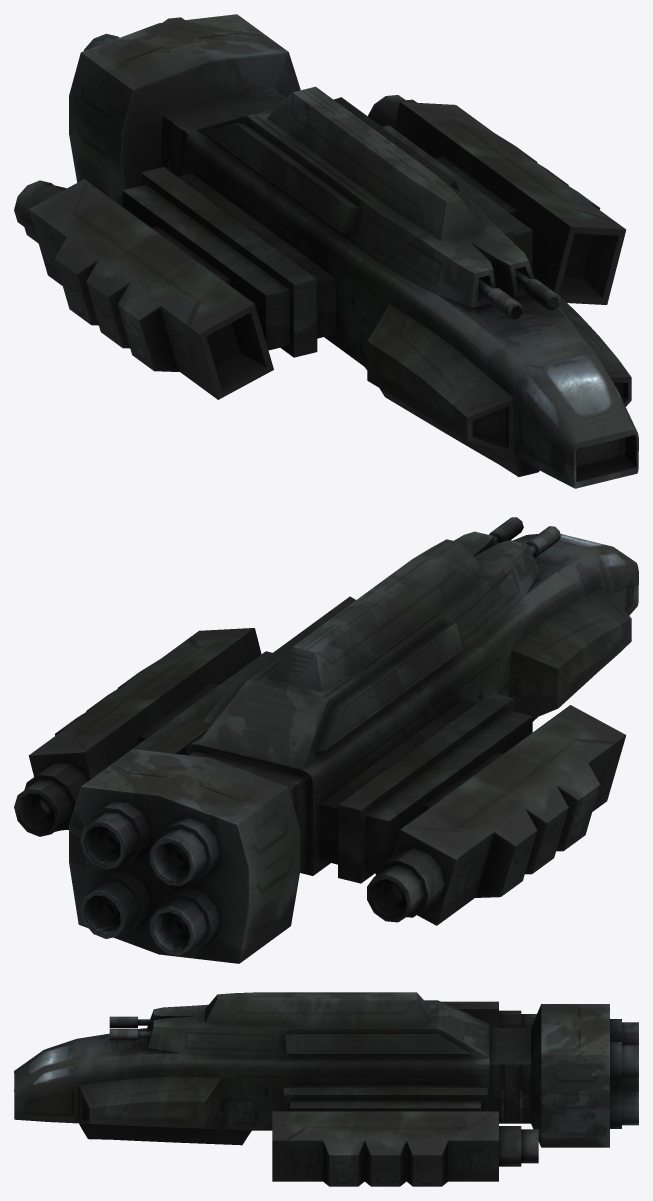
The model's file is nave.FBX.
3 renders of one model, top to bottom at view 1: azimuth 30°, elevation 25°; view 2: azimuth 150°, elevation 25°; view 3: azimuth 270°, elevation 25°, orthographic. The views are drawn at different scales.
Visible parts, largest first — view 1: Box001; view 2: Box001; view 3: Box001.
Part boxes in pixels (x1=…): Box001: x1=14, y1=14, x2=638, y2=488; Box001: x1=14, y1=517, x2=638, y2=963; Box001: x1=14, y1=992, x2=638, y2=1186.
Bounding box in the file's own units: 168 × 69.55 × 297.
